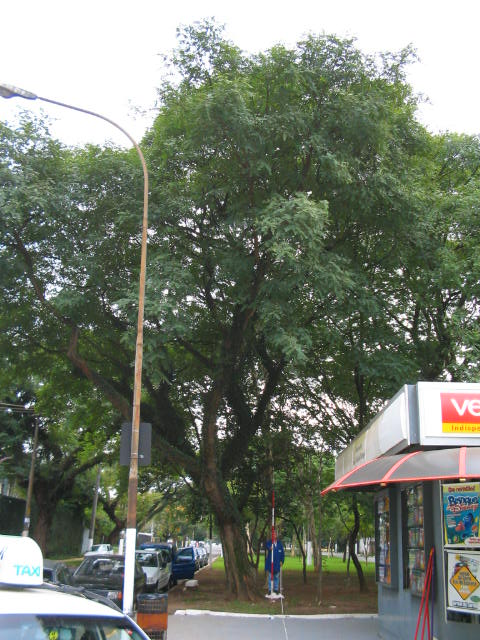crown: (6, 14, 467, 459)
stem: (188, 473, 267, 601)
stick: (262, 490, 280, 595)
tree: (4, 14, 468, 603)
